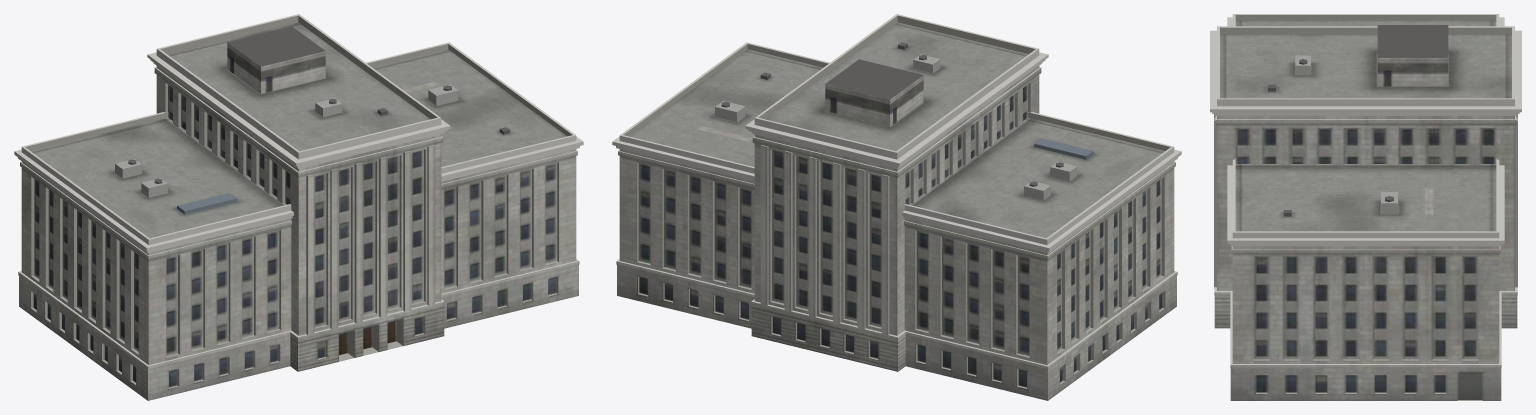
Rendered from dc_fed_white_c.glb.
The picture shows the model from 3 angles, left to right: view 1: azimuth 30°, elevation 25°; view 2: azimuth 150°, elevation 25°; view 3: azimuth 270°, elevation 25°; orthographic projection. The views are drawn at different scales.
Parts seen in each view (by area): view 1: dc_fed_white_c; view 2: dc_fed_white_c; view 3: dc_fed_white_c.
Boxes of the visible parts, bbox=[...] form: dc_fed_white_c: bbox=[14, 14, 583, 400]; dc_fed_white_c: bbox=[612, 14, 1181, 400]; dc_fed_white_c: bbox=[1210, 14, 1521, 400].
Size of the model in its own units: 67.4 by 35.1 by 39.8.
Materials: 1 (1 with a texture image).
